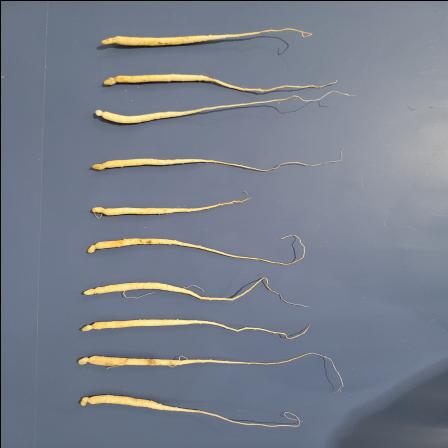Ginseng: (73, 350, 346, 392), (91, 89, 352, 125), (78, 390, 302, 428), (76, 274, 312, 309), (84, 232, 308, 264), (79, 315, 312, 339), (100, 25, 314, 49), (87, 153, 347, 172), (101, 72, 339, 92), (88, 194, 254, 216)
head: (100, 34, 122, 46), (102, 74, 120, 86), (76, 354, 96, 364), (85, 240, 99, 254), (90, 160, 109, 170), (81, 286, 99, 296), (80, 394, 94, 406), (80, 321, 96, 331), (93, 108, 107, 118), (90, 206, 106, 214)
